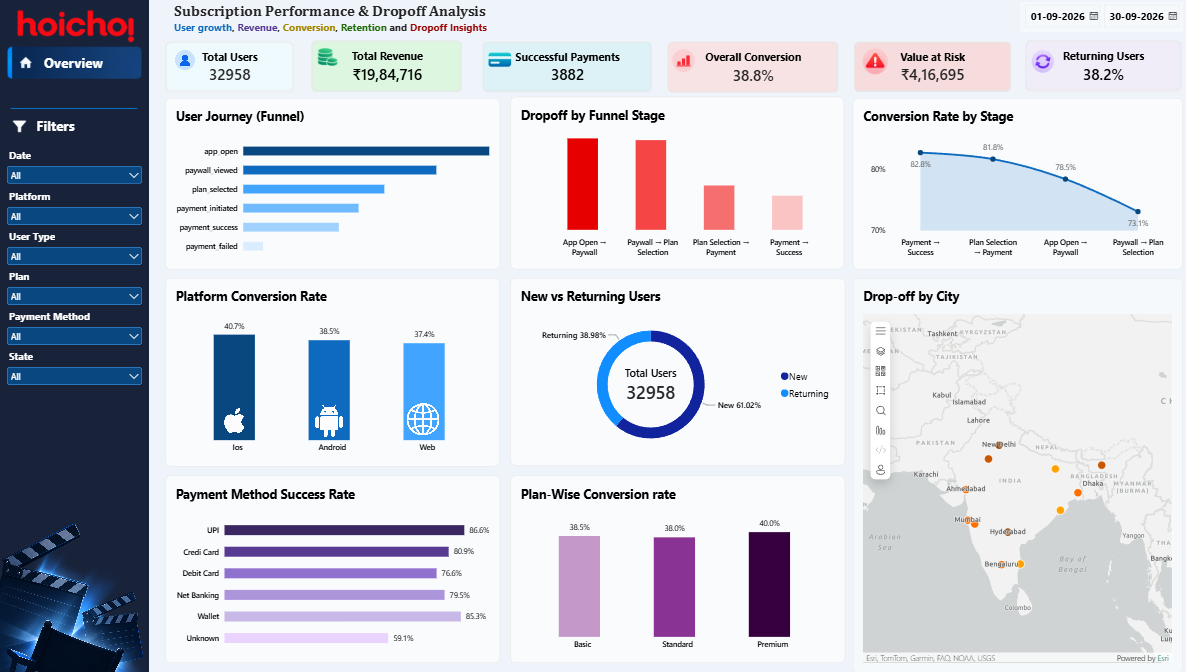

The page's visual inventory and layout, read from the dashboard file:
{"tool":"powerbi","page":{"name":"Dropoff Overview","canvas":[1920,1080],"ordinal":0},"visuals":[{"type":"textbox","box":[280,6.4,572.9,54.3],"z":0},{"type":"textbox","box":[0,0,240,1080],"z":1000},{"type":"image","box":[20,0,205.7,84.3],"z":2000},{"type":"image","box":[0,825.7,297.1,254.3],"z":3000},{"type":"image","box":[7.1,30.4,225.7,147.1],"z":4000},{"type":"image","box":[20,80.7,45.6,46.7],"z":5000},{"type":"textbox","box":[72.9,88.6,135.7,38.6],"z":6000},{"type":"slicer","fields":{"Values":["dropoff_data.event_timestamp"]},"box":[7.6,240.7,225.6,64.4],"z":7000},{"type":"slicer","fields":{"Values":["dropoff_data.platform"]},"box":[7.6,305.1,225.6,64.4],"z":8000},{"type":"slicer","fields":{"Values":["dropoff_data.user_type"]},"box":[7.6,369.6,225.6,64.4],"z":9000},{"type":"slicer","fields":{"Values":["dropoff_data.plan"]},"box":[7.6,434,225.6,64.4],"z":10000},{"type":"slicer","fields":{"Values":["dropoff_data.payment_method"]},"box":[7.6,498.4,225.6,64.4],"z":11000},{"type":"slicer","fields":{"Values":["dropoff_data.state"]},"box":[7.6,562.9,225.6,64.4],"z":12000},{"type":"image","box":[3.8,140,231.9,73.8],"z":13000},{"type":"image","box":[6.7,176.7,53.3,54.4],"z":14000},{"type":"textbox","box":[60,189.4,165.6,51.7],"z":15000},{"type":"cardVisual","fields":{"Data":["CountNonNull(dropoff_data.user_id)"]},"box":[266.4,69.1,205.5,80.9],"z":16000},{"type":"image","box":[272.7,65.5,50.5,64.7],"z":17000},{"type":"cardVisual","fields":{"Data":["Dropoff.Successful Payments"]},"box":[773.6,70.9,270,80.9],"z":18000},{"type":"image","box":[776.4,65.5,50.5,64.7],"z":19000},{"type":"cardVisual","fields":{"Data":["Dropoff.Value at Risk"]},"box":[1368,70.4,250.8,80],"z":20000},{"type":"image","box":[1374.4,67.8,55.8,65],"z":21000},{"type":"cardVisual","fields":{"Data":["dropoff_data.Overall Conversion"]},"box":[1070.9,70,272.5,81.7],"z":22000},{"type":"image","box":[1070.9,67.3,50.5,64.7],"z":23000},{"type":"clusteredBarChart","title":"User Journey (Funnel)","fields":{"Category":["dropoff_data.event_name","Funnel_Stage.Stage"],"Y":["CountNonNull(dropoff_data.user_id)"]},"box":[265.7,160,535.7,274.3],"z":24000},{"type":"columnChart","title":"Dropoff by Funnel Stage","fields":{"Category":["Dropoff.Stage"],"Y":["Dropoff.Dropoff Users"]},"box":[817.1,158.6,534.3,275.7],"z":25000},{"type":"lineChart","title":"Conversion Rate by Stage","fields":{"Category":["Dropoff.Stage"],"Y":["Dropoff.Stage Conversion"]},"box":[1366,160,528,274],"z":26000},{"type":"esriVisual","title":"Drop-off by City","fields":{"Color":["Dropoff.Dropoff Amount by City"],"Location":["dropoff_data.city"]},"box":[1366,448,528,632],"z":27000},{"type":"columnChart","title":"Platform Conversion Rate","fields":{"Category":["dropoff_data.platform"],"Y":["Dropoff.Platform Conversion"]},"box":[266.2,447.5,535,301.2],"z":28000},{"type":"image","box":[344.1,642.4,65.9,65.3],"z":29000},{"type":"image","box":[499.6,642.3,56.5,64.6],"z":30000},{"type":"image","box":[650.8,642.3,56.5,64.6],"z":31000},{"type":"donutChart","title":"New vs Returning Users","fields":{"Category":["dropoff_data.user_type"],"Y":["Dropoff.Total Users"]},"box":[818,448,535.7,300],"z":32000},{"type":"columnChart","title":"Plan-Wise Conversion rate","fields":{"Category":["dropoff_data.plan"],"Y":["Dropoff.Plan Conversion Rate"]},"box":[818.8,763.8,535.7,300],"z":33000},{"type":"barChart","title":"Payment Method Success Rate","fields":{"Category":["dropoff_data.payment_method"],"Y":["Dropoff.Payment Success Rate"]},"box":[266.2,763.8,535.7,300],"z":34000},{"type":"cardVisual","fields":{"Data":["Dropoff.Total Revenue"]},"box":[500,68.2,241,82],"z":35000},{"type":"cardVisual","fields":{"Data":["Dropoff.Returning User %"]},"box":[1641.6,68.4,250,81.8],"z":36000},{"type":"image","box":[500,61.8,50.5,64.7],"z":37000},{"type":"image","box":[1641.6,67.5,55.8,65],"z":37001},{"type":"slicer","fields":{"Values":["dropoff_data.event_timestamp"]},"box":[1633.8,6.2,260.8,48.5],"z":37002}]}

Visuals, with their boxes in screenshot pixels (x1, y1, x2, y2), scaled from the page's 1920x1080 canvas onto the 1186x672 screenshot:
textbox: {"x1": 173, "y1": 4, "x2": 527, "y2": 38}
textbox: {"x1": 0, "y1": 0, "x2": 148, "y2": 671}
image: {"x1": 12, "y1": 0, "x2": 139, "y2": 52}
image: {"x1": 0, "y1": 514, "x2": 184, "y2": 671}
image: {"x1": 4, "y1": 19, "x2": 144, "y2": 110}
image: {"x1": 12, "y1": 50, "x2": 41, "y2": 79}
textbox: {"x1": 45, "y1": 55, "x2": 129, "y2": 79}
slicer - dropoff_data.event_timestamp: {"x1": 5, "y1": 150, "x2": 144, "y2": 190}
slicer - dropoff_data.platform: {"x1": 5, "y1": 190, "x2": 144, "y2": 230}
slicer - dropoff_data.user_type: {"x1": 5, "y1": 230, "x2": 144, "y2": 270}
slicer - dropoff_data.plan: {"x1": 5, "y1": 270, "x2": 144, "y2": 310}
slicer - dropoff_data.payment_method: {"x1": 5, "y1": 310, "x2": 144, "y2": 350}
slicer - dropoff_data.state: {"x1": 5, "y1": 350, "x2": 144, "y2": 390}
image: {"x1": 2, "y1": 87, "x2": 146, "y2": 133}
image: {"x1": 4, "y1": 110, "x2": 37, "y2": 144}
textbox: {"x1": 37, "y1": 118, "x2": 139, "y2": 150}
cardVisual - CountNonNull(dropoff_data.user_id): {"x1": 165, "y1": 43, "x2": 291, "y2": 93}
image: {"x1": 168, "y1": 41, "x2": 200, "y2": 81}
cardVisual - Dropoff.Successful Payments: {"x1": 478, "y1": 44, "x2": 645, "y2": 94}
image: {"x1": 480, "y1": 41, "x2": 511, "y2": 81}
cardVisual - Dropoff.Value at Risk: {"x1": 845, "y1": 44, "x2": 1000, "y2": 94}
image: {"x1": 849, "y1": 42, "x2": 883, "y2": 83}
cardVisual - dropoff_data.Overall Conversion: {"x1": 662, "y1": 44, "x2": 830, "y2": 94}
image: {"x1": 662, "y1": 42, "x2": 693, "y2": 82}
"User Journey (Funnel)" clusteredBarChart: {"x1": 164, "y1": 100, "x2": 495, "y2": 270}
"Dropoff by Funnel Stage" columnChart: {"x1": 505, "y1": 99, "x2": 835, "y2": 270}
"Conversion Rate by Stage" lineChart: {"x1": 844, "y1": 100, "x2": 1170, "y2": 270}
"Drop-off by City" esriVisual: {"x1": 844, "y1": 279, "x2": 1170, "y2": 671}
"Platform Conversion Rate" columnChart: {"x1": 164, "y1": 278, "x2": 495, "y2": 466}
image: {"x1": 213, "y1": 400, "x2": 253, "y2": 440}
image: {"x1": 309, "y1": 400, "x2": 344, "y2": 440}
image: {"x1": 402, "y1": 400, "x2": 437, "y2": 440}
"New vs Returning Users" donutChart: {"x1": 505, "y1": 279, "x2": 836, "y2": 465}
"Plan-Wise Conversion rate" columnChart: {"x1": 506, "y1": 475, "x2": 837, "y2": 662}
"Payment Method Success Rate" barChart: {"x1": 164, "y1": 475, "x2": 495, "y2": 662}
cardVisual - Dropoff.Total Revenue: {"x1": 309, "y1": 42, "x2": 458, "y2": 93}
cardVisual - Dropoff.Returning User %: {"x1": 1014, "y1": 43, "x2": 1168, "y2": 93}
image: {"x1": 309, "y1": 38, "x2": 340, "y2": 79}
image: {"x1": 1014, "y1": 42, "x2": 1048, "y2": 82}
slicer - dropoff_data.event_timestamp: {"x1": 1009, "y1": 4, "x2": 1170, "y2": 34}
